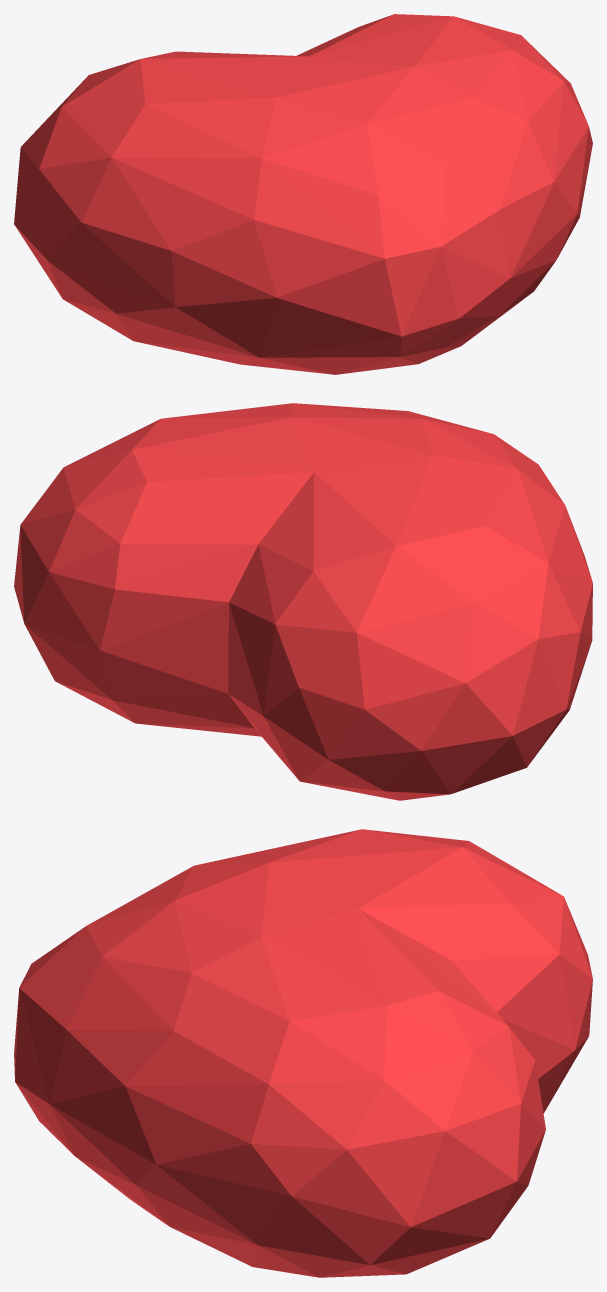
File: ToyObject_110.fbx
3 views of the same model, one above another, from view 1: azimuth 30°, elevation 25°; view 2: azimuth 150°, elevation 25°; view 3: azimuth 270°, elevation 25° (orthographic). The views are drawn at different scales.
Parts seen in each view (by area): view 1: object-1.046; view 2: object-1.046; view 3: object-1.046.
Boxes of the visible parts, box(x1,y1,x2,y2) form: object-1.046: box(14, 14, 592, 374); object-1.046: box(14, 403, 592, 800); object-1.046: box(14, 829, 592, 1277).
Size of the model in its own units: 0.1407 by 0.0701 by 0.1219.
